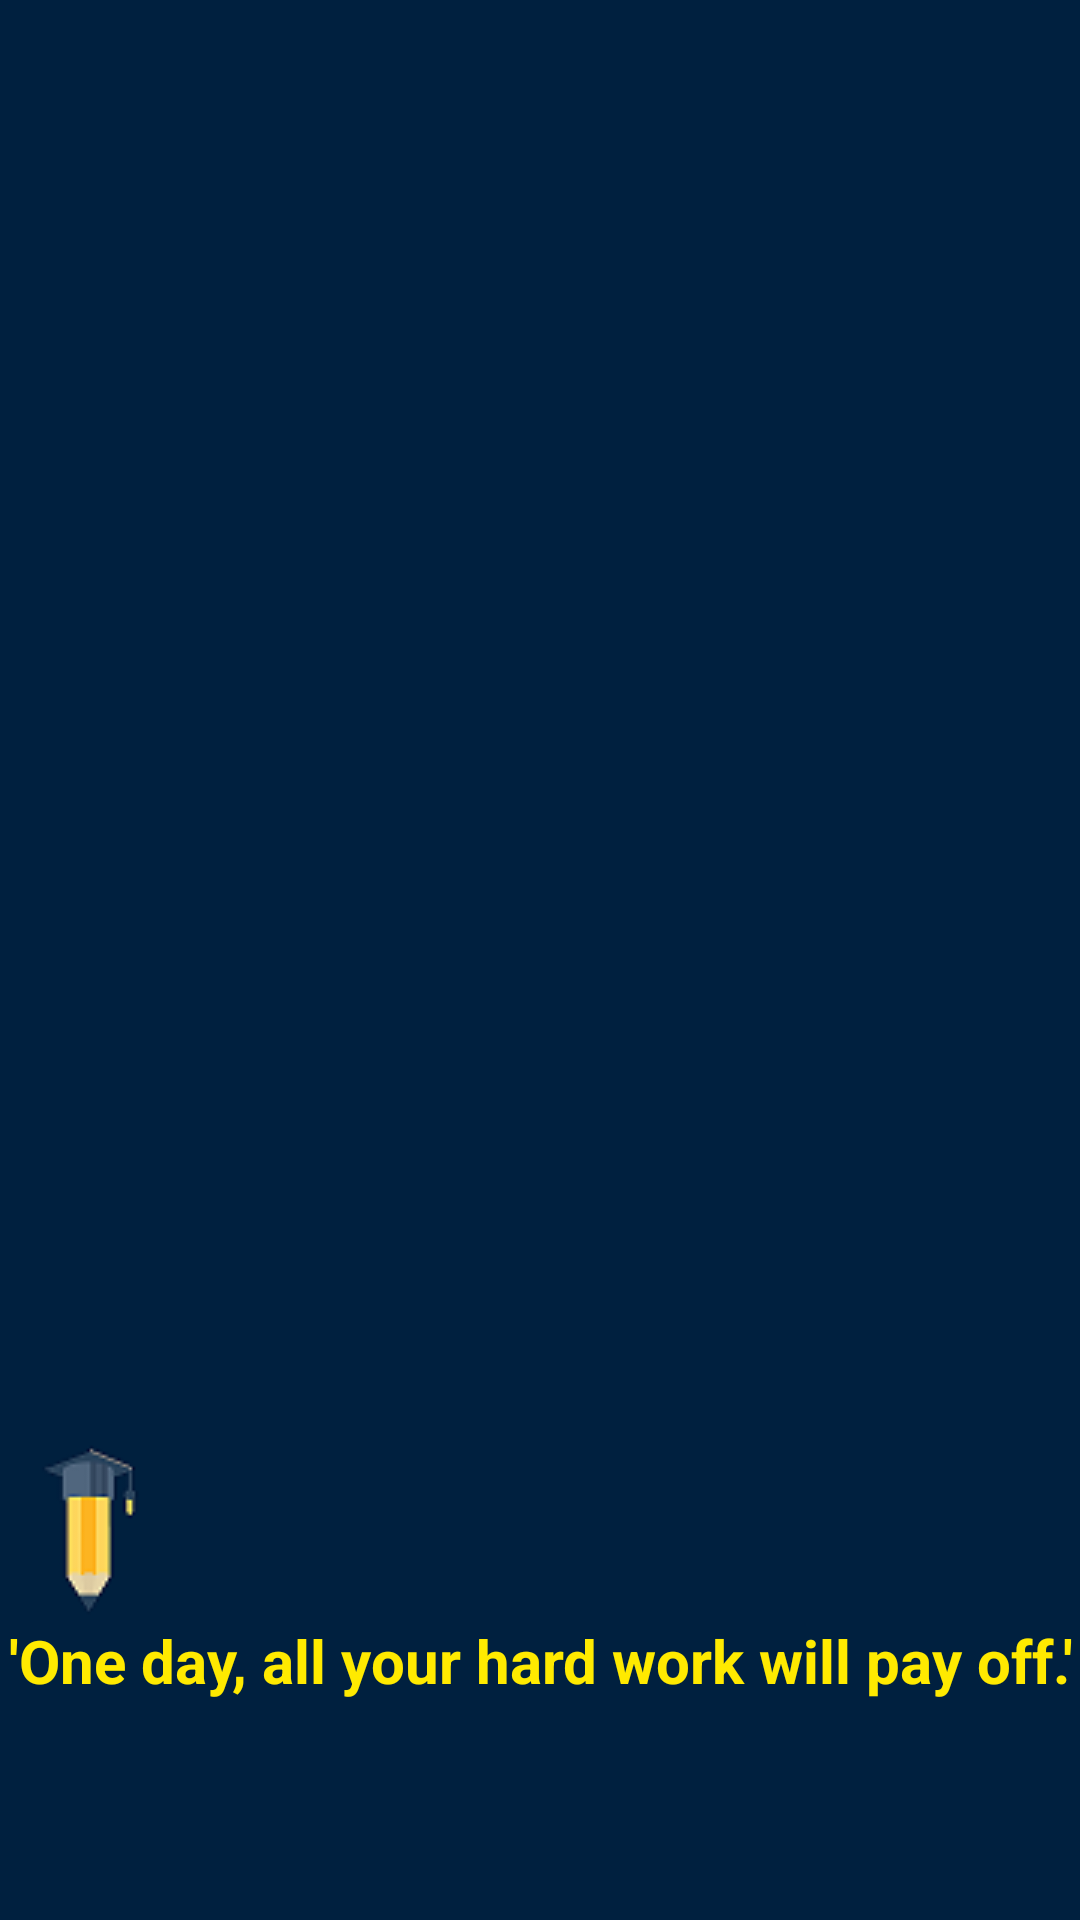

Locate icon controls on the screen. Image size 1080×1920, boxes as (x1, y1, x2, y2).
pencil: (46, 1448, 135, 1611)
